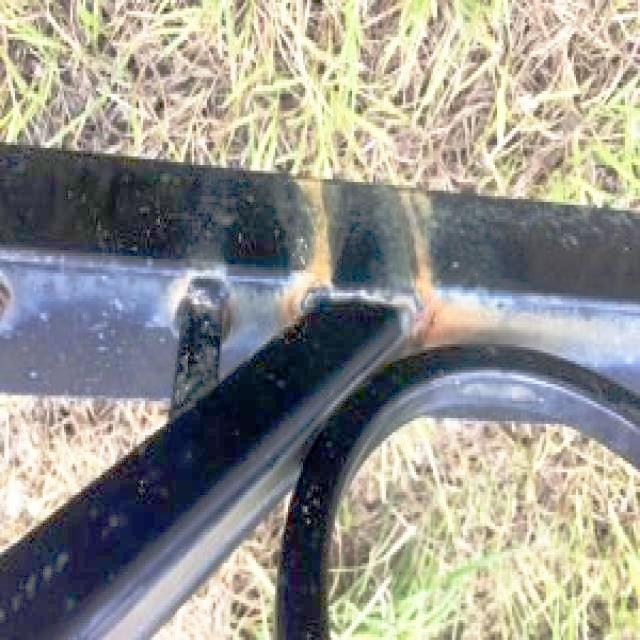Corrosion: (433, 296, 626, 366), (298, 178, 341, 288), (405, 190, 435, 315), (416, 290, 480, 348), (283, 260, 315, 324)
